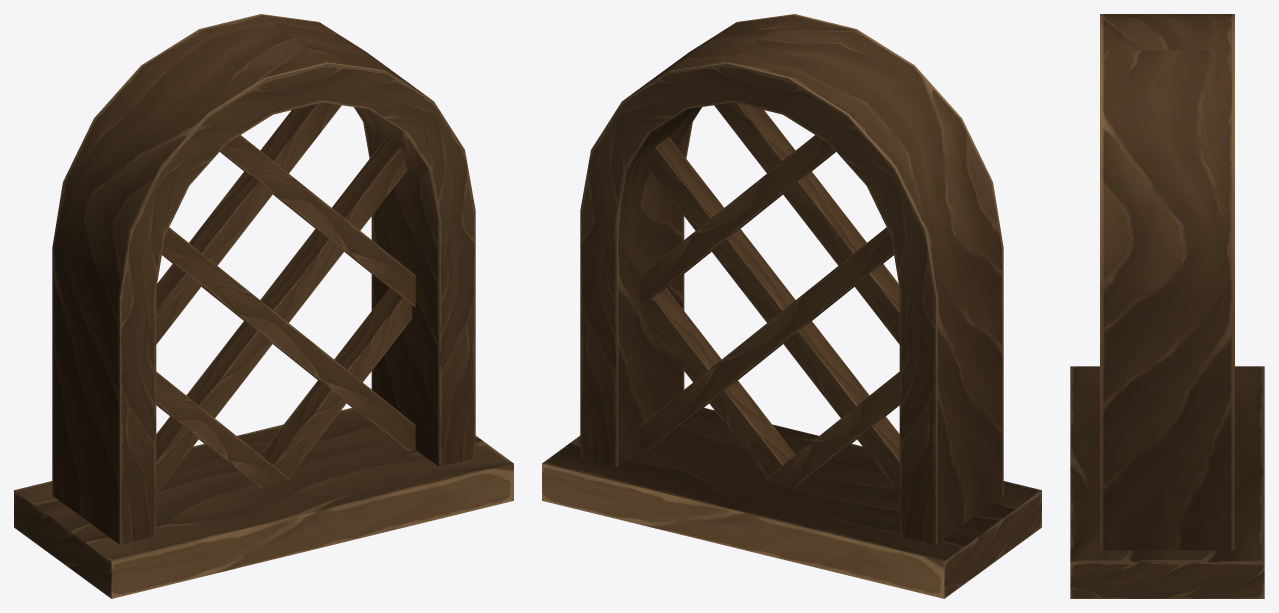
Rendered from Window_1_1.FBX.
3 renders of one model, left to right at view 1: azimuth 30°, elevation 25°; view 2: azimuth 150°, elevation 25°; view 3: azimuth 270°, elevation 25°, orthographic.
Visible parts, largest first — view 1: Window_1_1; view 2: Window_1_1; view 3: Window_1_1.
Part boxes in pixels (x1,y1,x2,y2): Window_1_1: (14, 14, 513, 598); Window_1_1: (542, 14, 1041, 598); Window_1_1: (1070, 14, 1264, 598).
Size of the model in its own units: 996 by 1107 by 418.
